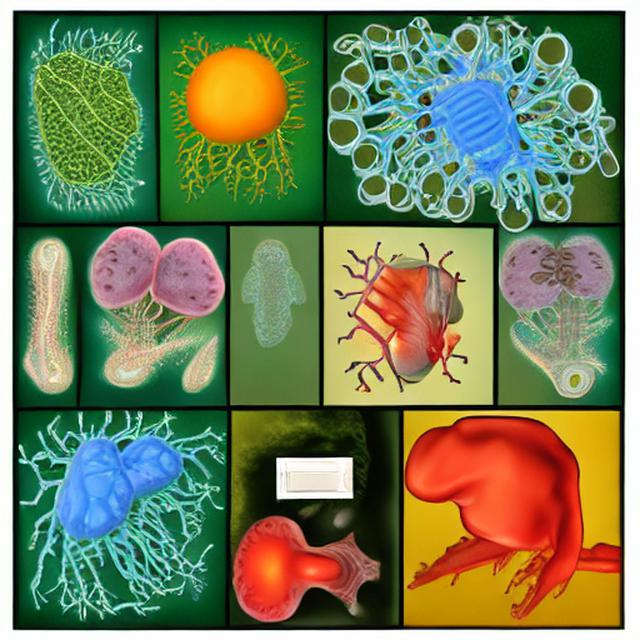Graph: (278, 460, 342, 496)
